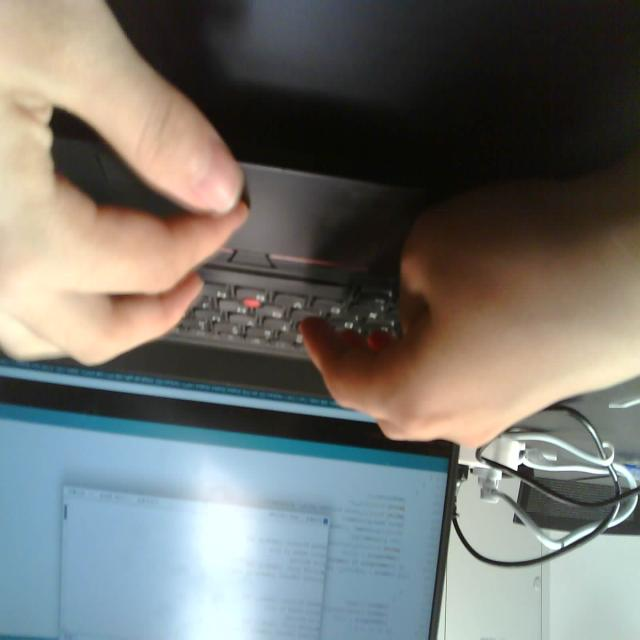keyboard-with-hands: (0, 123, 466, 394)
